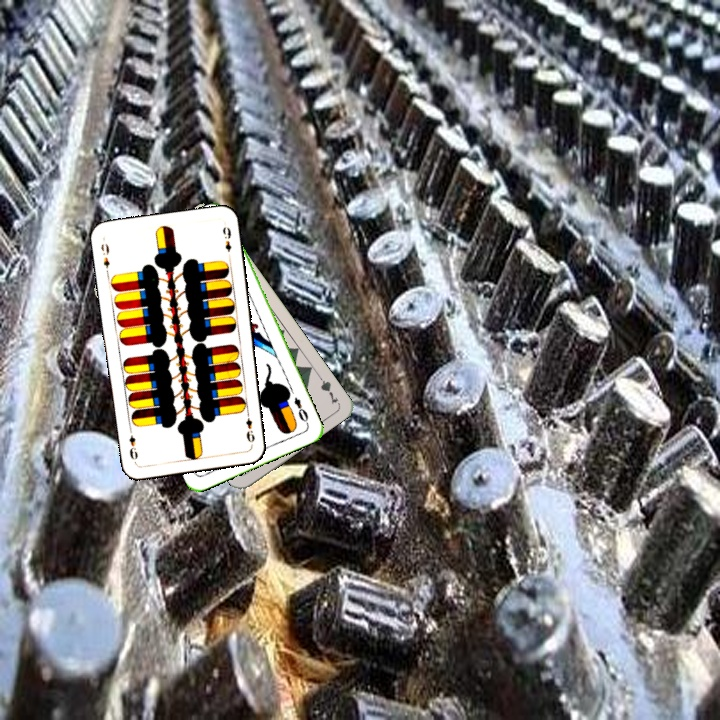E9: (242, 407, 257, 445), (97, 240, 112, 277)
EO: (290, 393, 311, 427)
G7: (313, 369, 341, 407)
